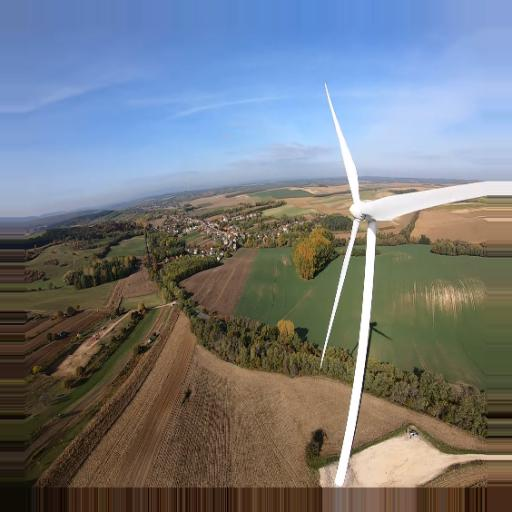wind turbine: (322, 82, 488, 486)
